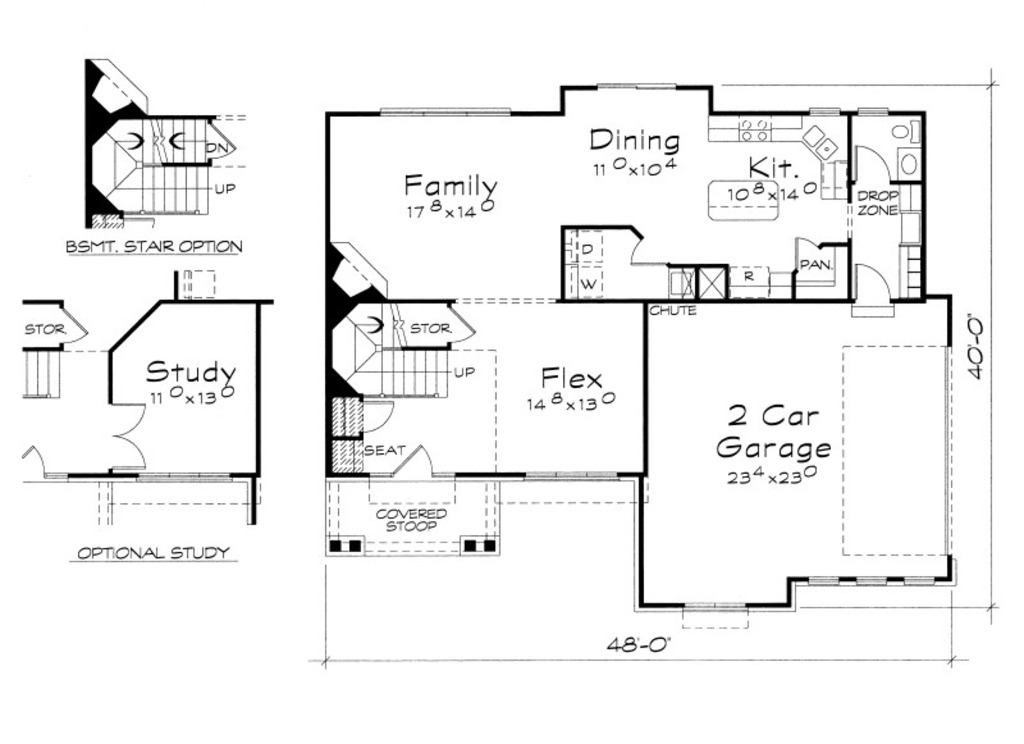door: (97, 398, 148, 470), (846, 260, 896, 316), (379, 443, 444, 484), (45, 304, 99, 345), (853, 133, 894, 186), (630, 229, 667, 269), (788, 231, 820, 268), (18, 444, 48, 481)
large_sink: (884, 115, 921, 147)
small_sink: (892, 148, 924, 181)
stairs: (84, 107, 240, 216), (328, 300, 455, 399), (5, 345, 65, 399)
twin_sink: (799, 119, 839, 161)
window: (376, 96, 509, 124), (811, 567, 943, 592), (521, 466, 625, 486), (137, 469, 228, 483)
